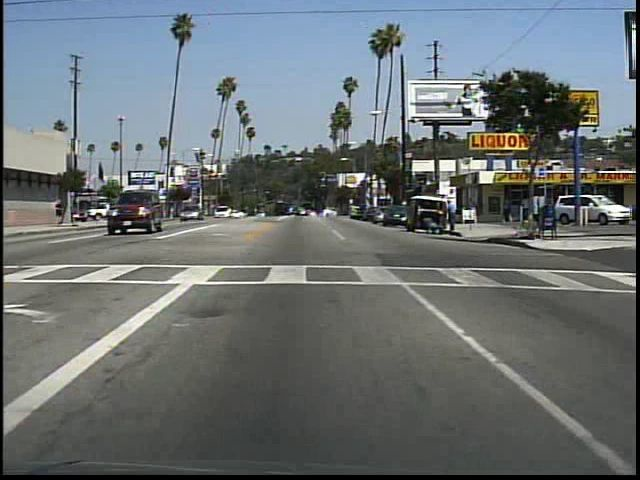person: (445, 195, 460, 235), (497, 191, 514, 223), (55, 198, 67, 227), (420, 216, 438, 235)
